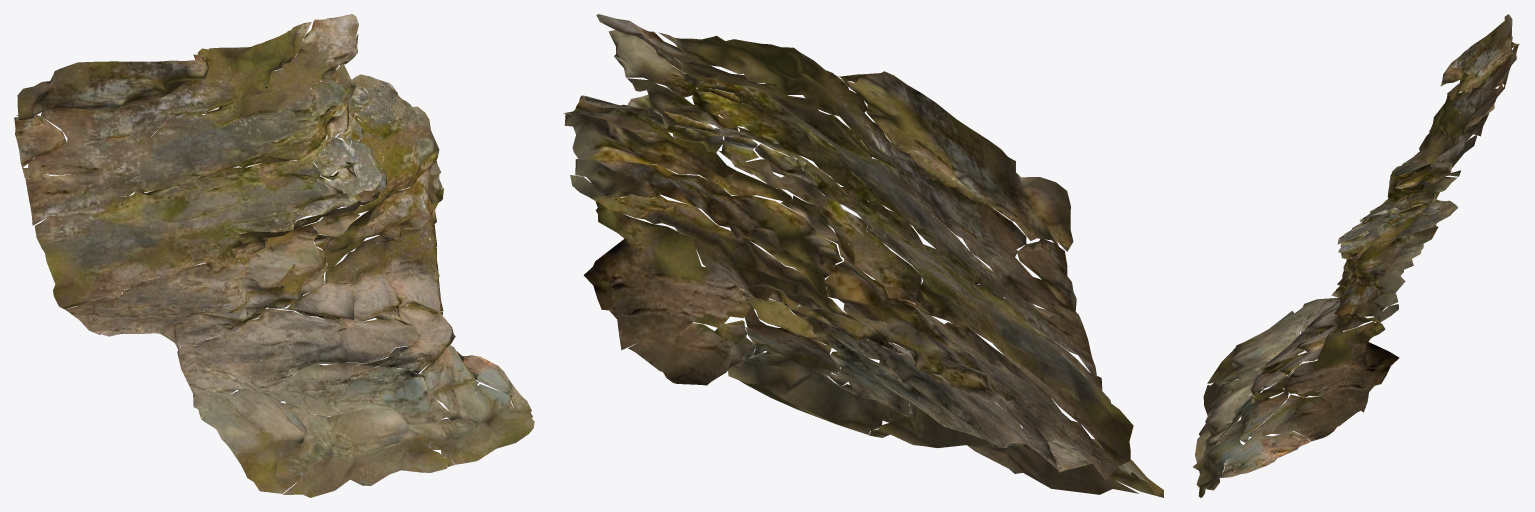
Rendered from rock_face_02.glb.
The picture shows the model from 3 angles, left to right: view 1: azimuth 30°, elevation 25°; view 2: azimuth 150°, elevation 25°; view 3: azimuth 270°, elevation 25°; orthographic projection. The views are drawn at different scales.
Parts seen in each view (by area): view 1: rock_face_02; view 2: rock_face_02; view 3: rock_face_02.
Boxes of the visible parts, left/top/right/bottom form: rock_face_02: left=14, top=14, right=534, bottom=497; rock_face_02: left=563, top=14, right=1163, bottom=497; rock_face_02: left=1193, top=14, right=1519, bottom=497.
Bounding box in the file's own units: 2.71 × 2.48 × 2.14.
Materials: 1 (1 with a texture image).
